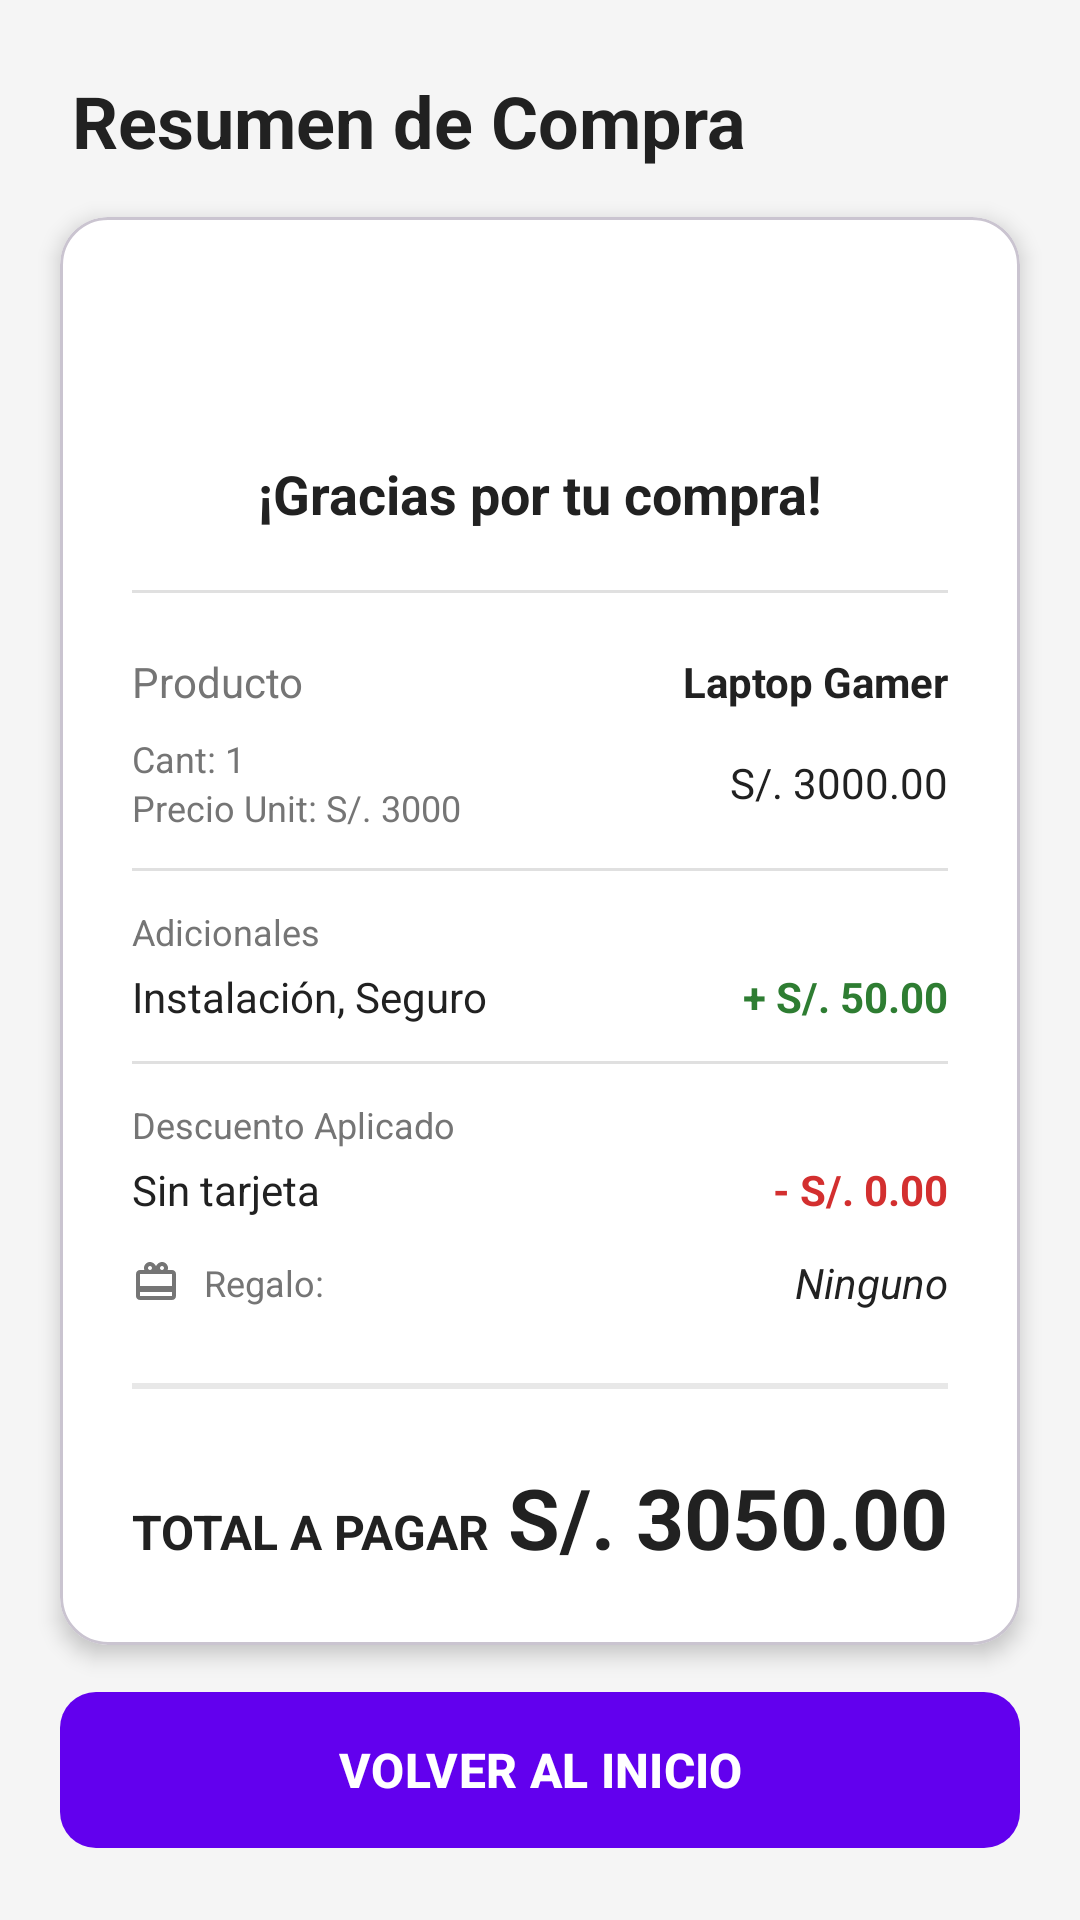

Where icons sit on this 1080w x 1920h app screen, as (x1, y1, x2, y2):
gift: (136, 1262, 176, 1300)
